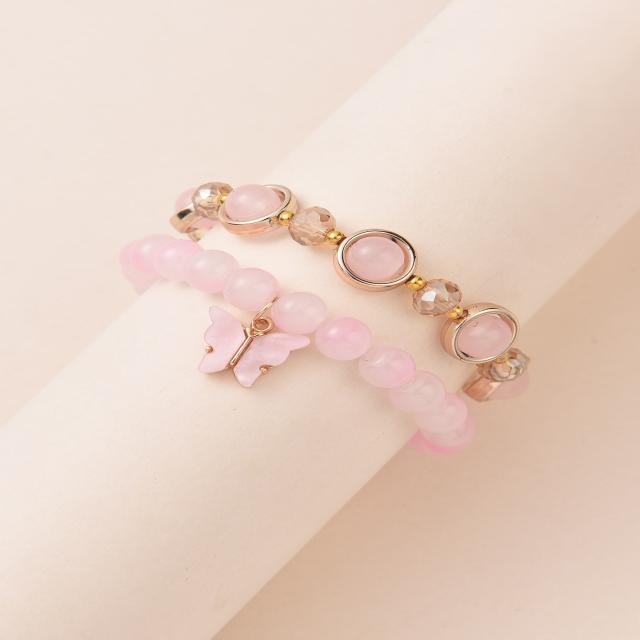bracelet: (81, 103, 567, 511)
